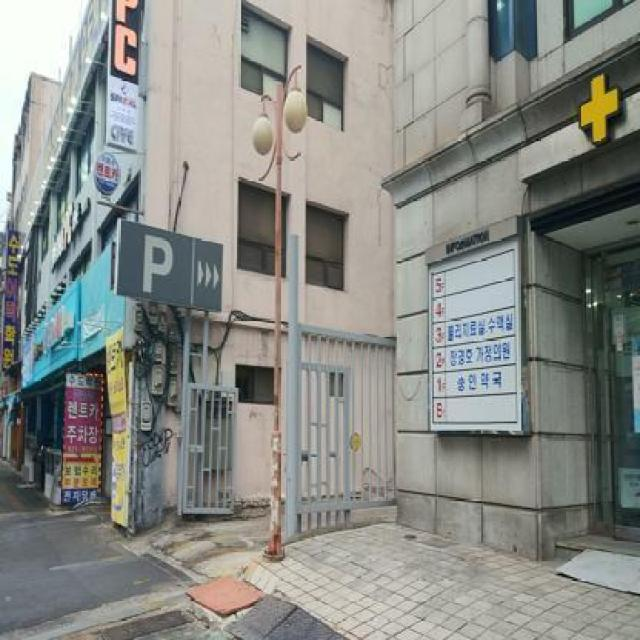pole: (239, 63, 323, 565)
